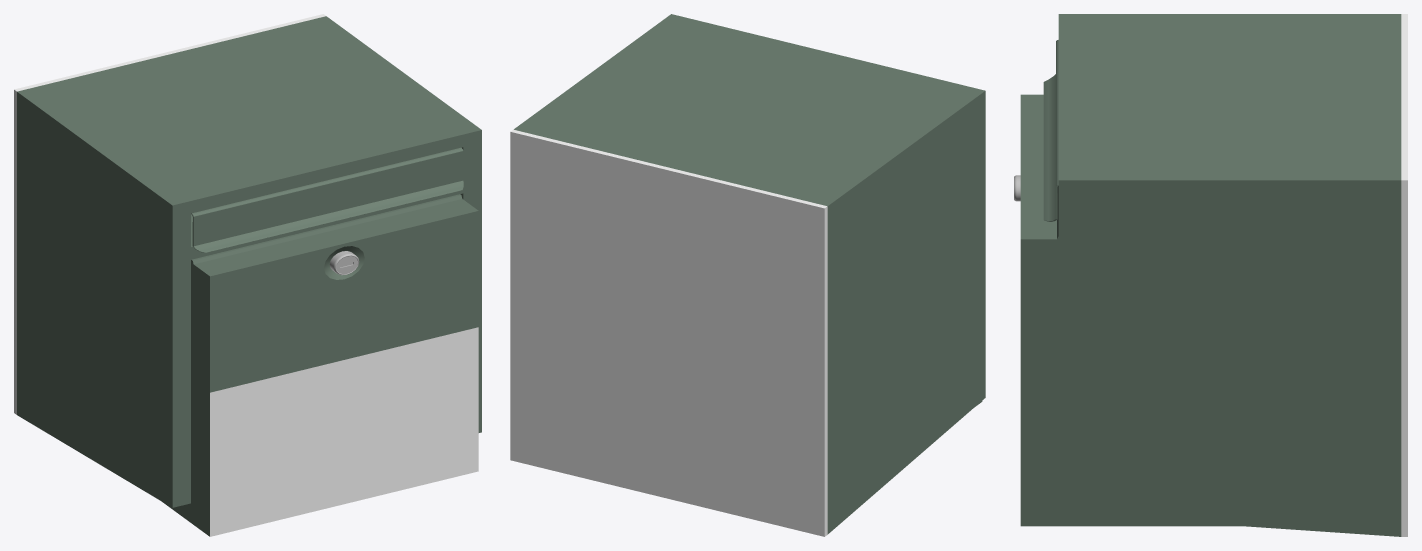
The model's file is sh-scopia-letters-box.glb.
3 views of the same model, side by side, from view 1: azimuth 30°, elevation 25°; view 2: azimuth 150°, elevation 25°; view 3: azimuth 270°, elevation 25° (orthographic). The views are drawn at different scales.
Visible parts, largest first — view 1: Cube.002, Cube.004, Cylinder; view 2: Cube.004, Cube.002; view 3: Cube.002, Cube.004.
Part boxes in pixels (left/top/right/bottom): Cube.002: left=17, top=16, right=481, bottom=536; Cube.004: left=14, top=14, right=478, bottom=536; Cylinder: left=329, top=251, right=359, bottom=275; Cube.004: left=510, top=129, right=827, bottom=536; Cube.002: left=514, top=14, right=985, bottom=534; Cube.002: left=1020, top=14, right=1401, bottom=536; Cube.004: left=1401, top=14, right=1407, bottom=536.
Size of the model in its own units: 1 by 1 by 1.
Materials: 3 (1 with a texture image).
